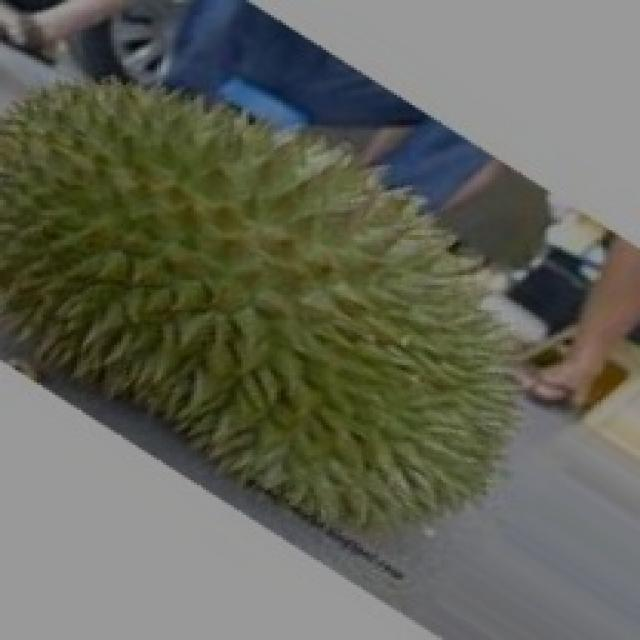fruit: (0, 5, 338, 515)
